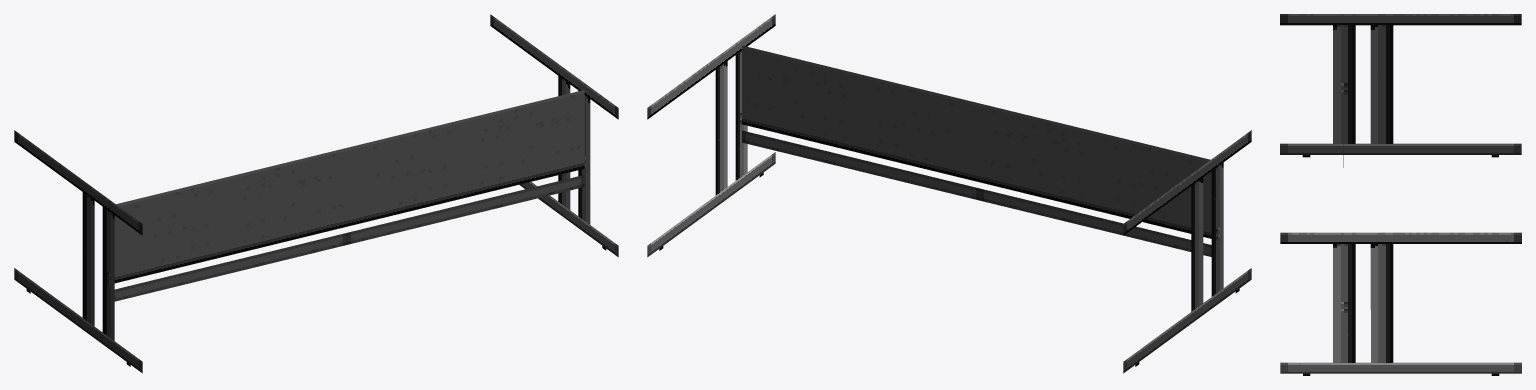
The model's file is metal_table_secondary.glb.
The picture shows the model from 3 angles, left to right: view 1: azimuth 30°, elevation 25°; view 2: azimuth 150°, elevation 25°; view 3: azimuth 270°, elevation 25°; orthographic projection. The views are drawn at different scales.
Visible parts, largest first — view 1: Object; view 2: Object; view 3: Object.
Boxes of the visible parts, x1=… form: Object: x1=14, y1=14, x2=618, y2=373; Object: x1=647, y1=14, x2=1251, y2=373; Object: x1=1280, y1=14, x2=1521, y2=375.
Bounding box in the file's own units: 3.46 × 1.06 × 1.62.
Materials: 3 (3 with a texture image).
